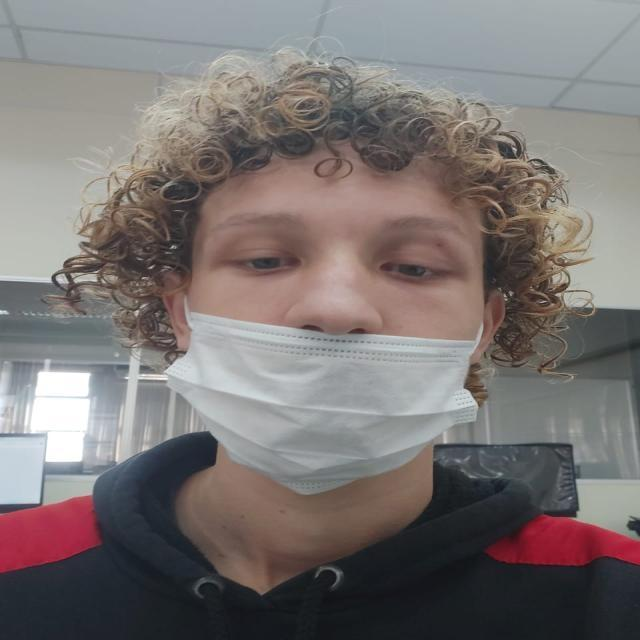hairnet: (170, 265, 479, 480)
